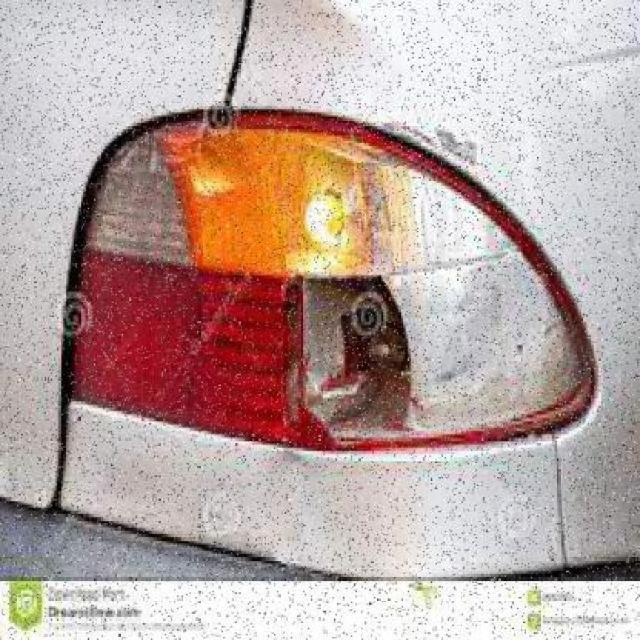Signlight-Damage: (277, 94, 595, 452)
Taillight-Damage: (46, 80, 596, 444)
